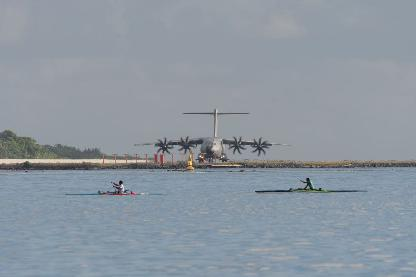A400M: (134, 108, 292, 161)
